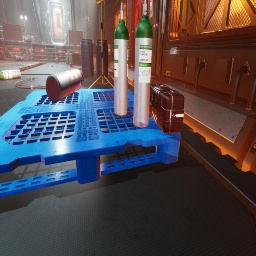0: (133, 0, 153, 128), (114, 0, 129, 116), (0, 70, 21, 80), (15, 40, 22, 42), (79, 45, 80, 46), (128, 79, 128, 84)
EmergencyPhone ,: (111, 46, 113, 52), (68, 21, 70, 27), (69, 23, 70, 24), (112, 49, 113, 49)
FireAlarm ,: (45, 21, 47, 25)
FireExtinguisher ]: (70, 61, 74, 68), (24, 39, 32, 42), (42, 42, 46, 44)
FirstAidBox ,: (149, 84, 185, 134)
NitrogenTank ,: (46, 69, 84, 102), (14, 55, 24, 61), (55, 58, 59, 64)
SafetySwitchPanel ,: (149, 0, 156, 18), (108, 44, 111, 55)
